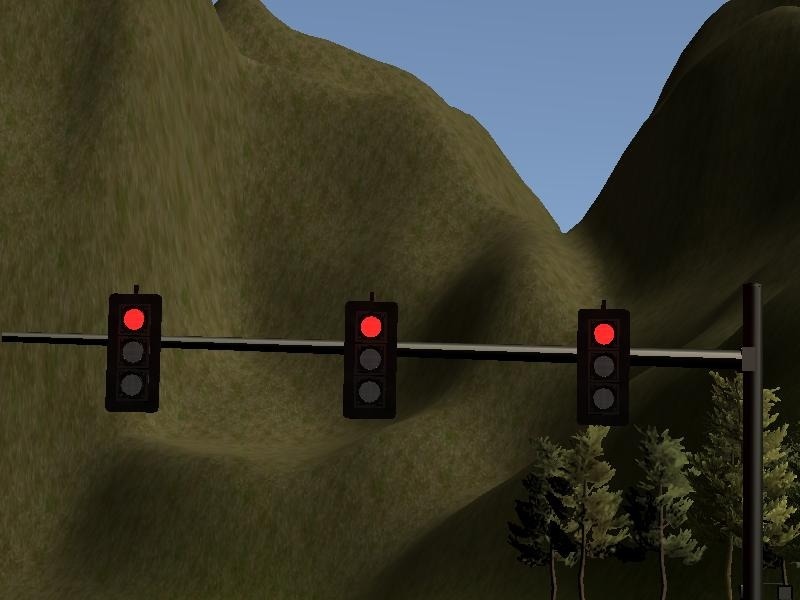red: (107, 294, 163, 411), (576, 308, 632, 425), (341, 300, 397, 417)
